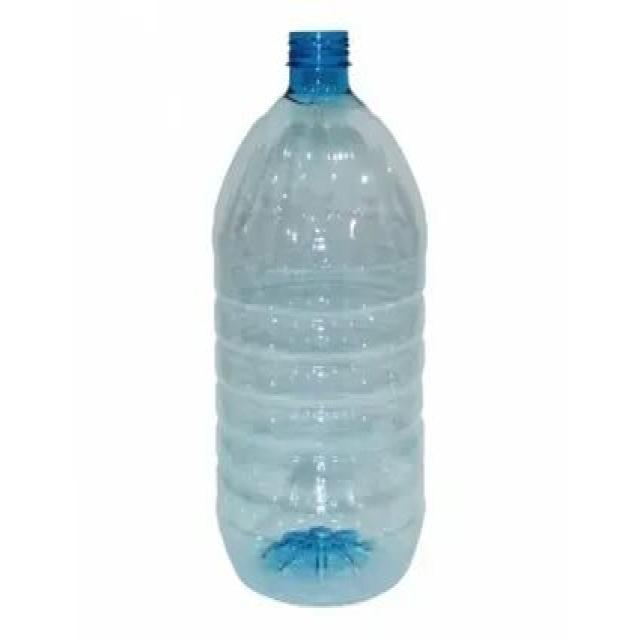blue: (215, 28, 423, 607)
